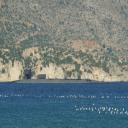submarine: (9, 68, 107, 84)
